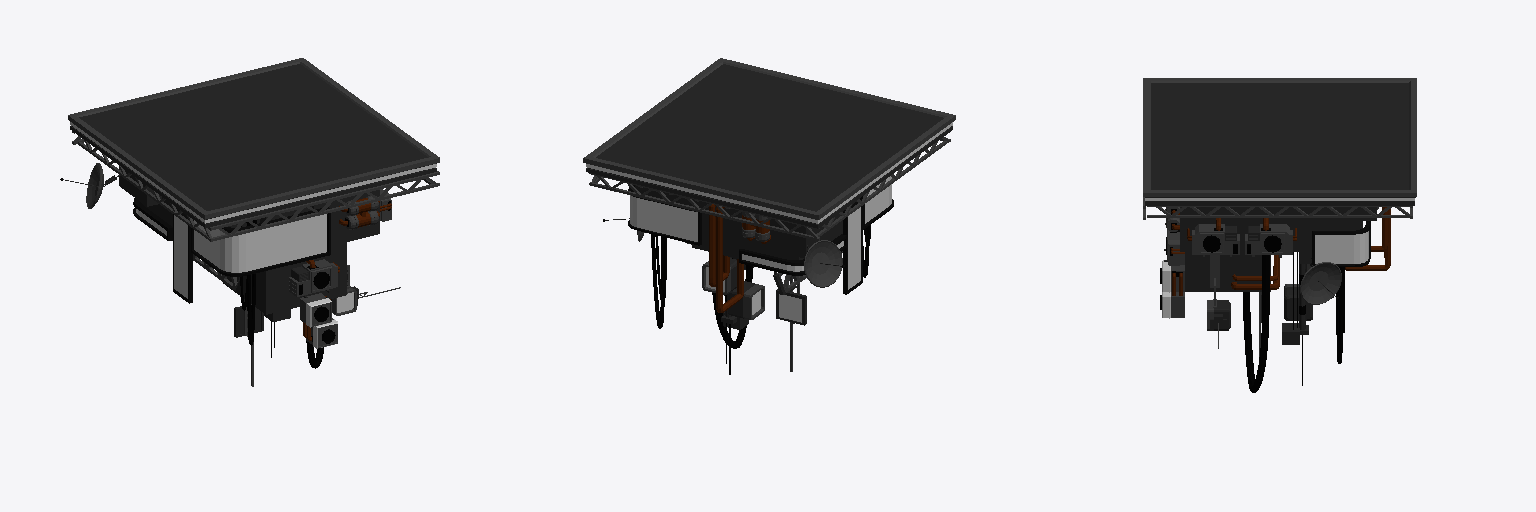
Rendered from Platform_4x4.obj.
3 renders of one model, left to right at view 1: azimuth 30°, elevation 25°; view 2: azimuth 150°, elevation 25°; view 3: azimuth 270°, elevation 25°, orthographic.
Parts seen in each view (by area): view 1: Platform_4x4_Cube.099; view 2: Platform_4x4_Cube.099; view 3: Platform_4x4_Cube.099.
Boxes of the visible parts, x1=… form: Platform_4x4_Cube.099: x1=60, y1=58, x2=439, y2=386; Platform_4x4_Cube.099: x1=583, y1=58, x2=955, y2=374; Platform_4x4_Cube.099: x1=1143, y1=78, x2=1416, y2=392.
Size of the model in its own units: 4.47 by 3.76 by 3.9.